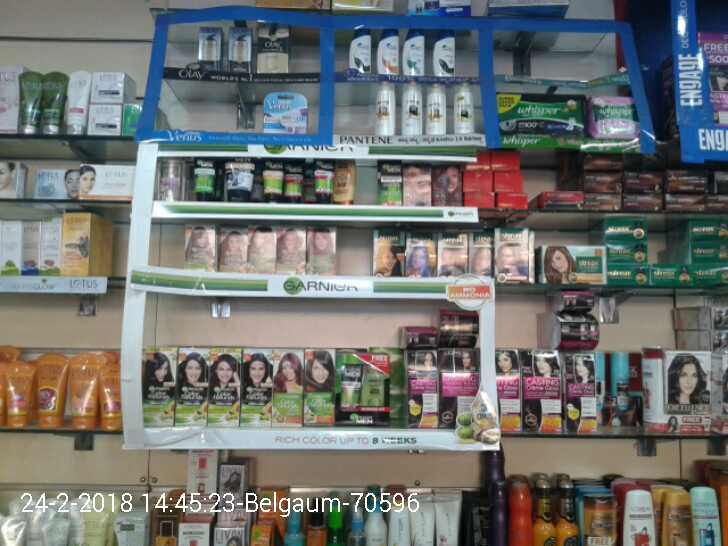venus: (263, 93, 309, 130)
